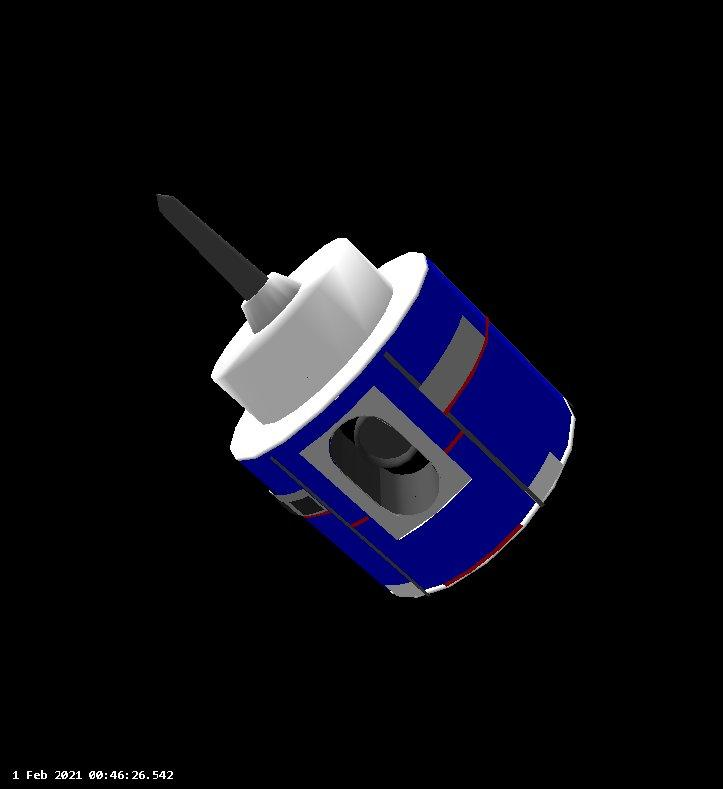antenna: (154, 189, 302, 335)
body: (208, 235, 580, 601)
